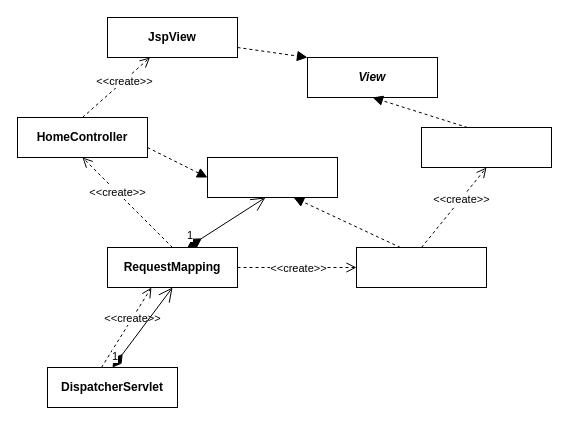
This 569x425 diagram has some shape labels left out. The shapes that lost their labels are listed below. From the top down, each one's box as (x1, y1, x2, y2) in pixels, then its label:
(420, 126, 552, 168): JsonView
(206, 156, 338, 198): Controller
(356, 246, 486, 288): AddAnswerController
